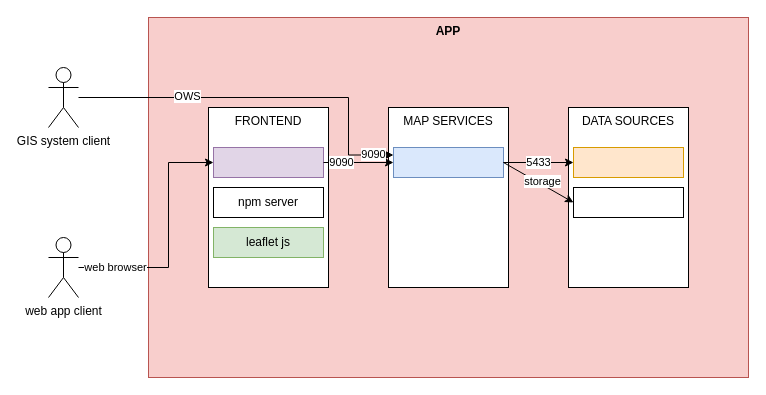
Image size: 766x395. Some labels were removed from this diagram. Here are the shapes that lost their labels. From the top down, the centre of each, then its label:
At pixel 268 162: "react app".
At pixel 448 162: "geoserwer".
At pixel 628 162: "postgis".
At pixel 628 202: "gpkg fgb files".
